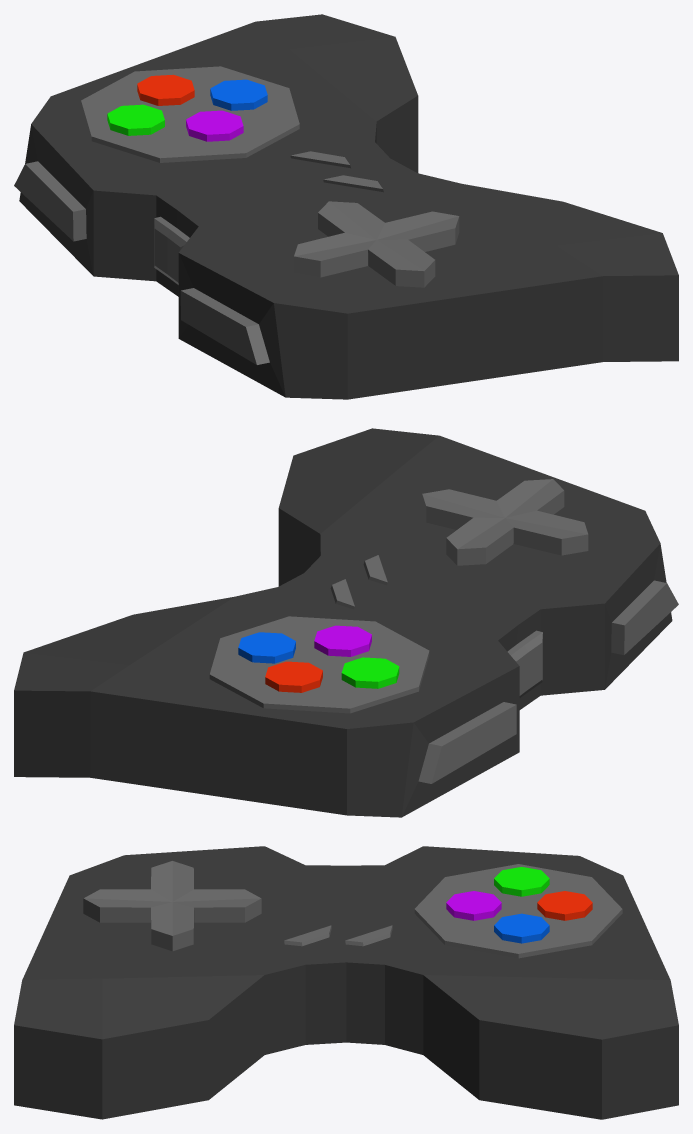
Rendered from Mando.fbx.
The picture shows the model from 3 angles, top to bottom: view 1: azimuth 30°, elevation 25°; view 2: azimuth 150°, elevation 25°; view 3: azimuth 270°, elevation 25°; orthographic projection. The views are drawn at different scales.
Parts seen in each view (by area): view 1: mando; view 2: mando; view 3: mando.
Part boxes in pixels (box(x1,y1,x2,y2)): mando: box(14, 14, 678, 399); mando: box(14, 428, 678, 817); mando: box(14, 846, 678, 1119).
Bounding box in the file's own units: 0.1144 × 0.0311 × 0.1737.
